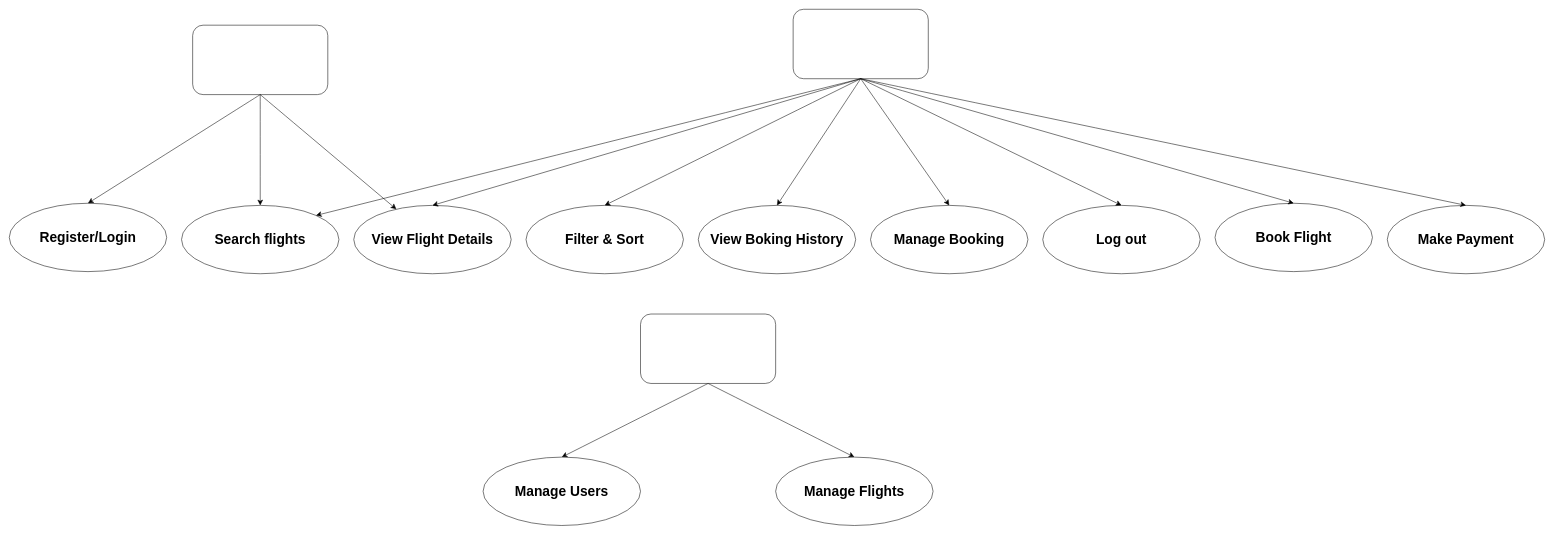
Some shapes in this 1554 by 535 pixel diagram are drawn without their labels. Here are the shapes that lost their labels. From the top down, the centre of each, then its label:
At (x=260, y=60): "Unauthenticated User".
At (x=860, y=44): "User".
At (x=708, y=348): "Admin".
